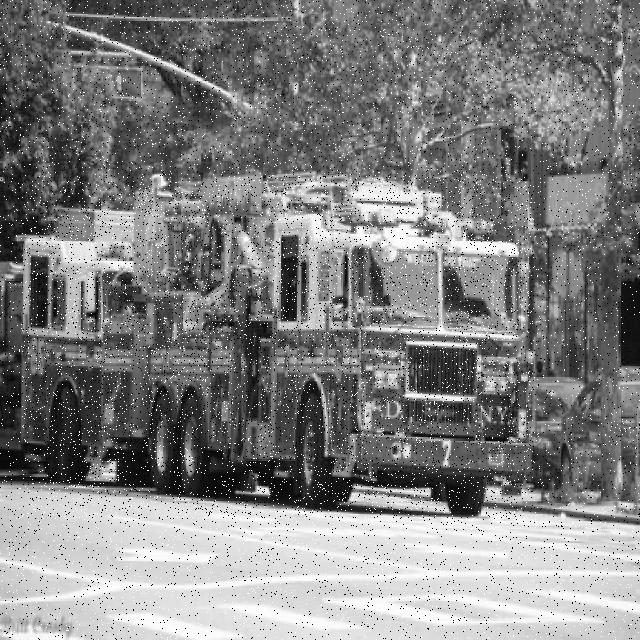Fire Truck: (22, 174, 534, 519)
